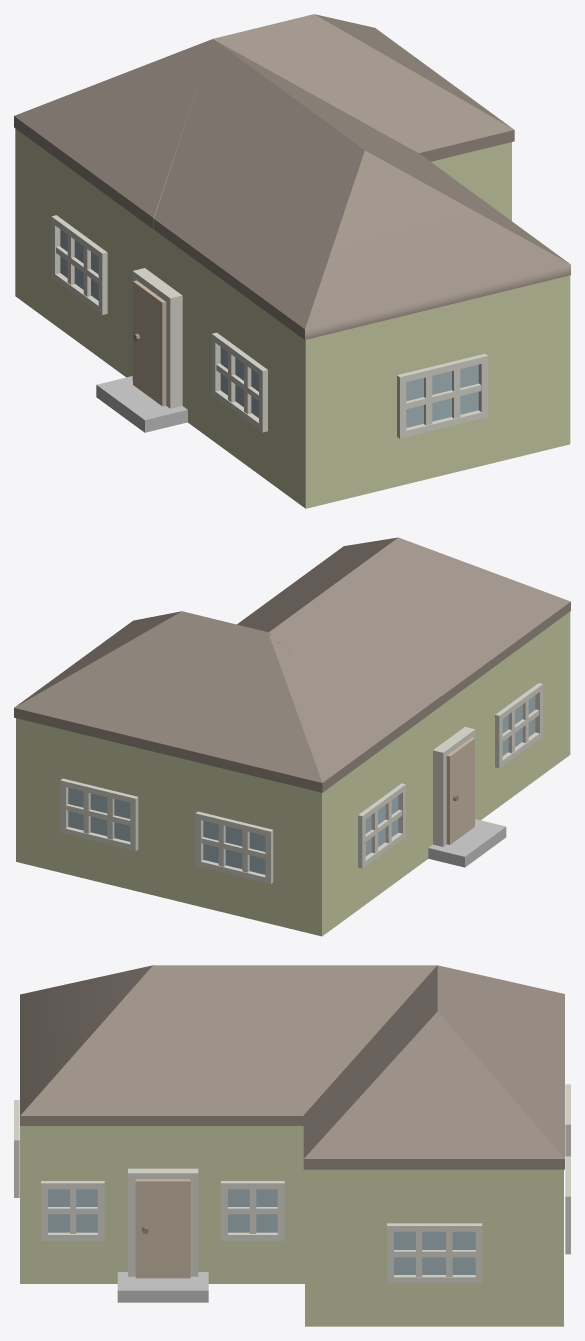
File: house03.fbx
3 views of the same model, one above another, from view 1: azimuth 30°, elevation 25°; view 2: azimuth 150°, elevation 25°; view 3: azimuth 270°, elevation 25° (orthographic). The views are drawn at different scales.
Parts seen in each view (by area): view 1: house03, roof05, roof06, door9 (×3), pPlane2 (×3), doorCentre, door17 (×3), doorFrame, step; view 2: house03, roof06, roof05, door9 (×4), pPlane2 (×4), door17 (×4), doorCentre, step, doorFrame; view 3: house03, roof05, roof06, doorCentre, door5 (×2), door9 (×3), pPlane1 (×2), pPlane2, doorFrame, step, door14 (×2), door17.
Boxes of the visible parts, x1,y1,x2,y2 form: house03: [15, 128, 570, 508]; roof05: [153, 39, 570, 339]; roof06: [14, 14, 514, 229]; door9 (×3): [51, 215, 488, 438]; pPlane2 (×3): [60, 229, 478, 427]; doorCentre: [133, 280, 166, 406]; door17 (×3): [56, 235, 481, 425]; doorFrame: [132, 268, 182, 408]; step: [96, 376, 187, 432]; house03: [16, 611, 570, 936]; roof06: [14, 611, 441, 792]; roof05: [237, 537, 570, 704]; door9 (×4): [60, 683, 542, 883]; pPlane2 (×4): [68, 695, 535, 874]; door17 (×4): [66, 700, 539, 872]; doorCentre: [446, 737, 474, 844]; step: [428, 819, 506, 867]; doorFrame: [433, 727, 475, 846]; house03: [20, 1126, 563, 1326]; roof05: [20, 965, 436, 1125]; roof06: [303, 965, 564, 1169]; doorCentre: [135, 1179, 190, 1278]; door5 (×2): [41, 1181, 284, 1240]; door9 (×3): [14, 1100, 570, 1283]; pPlane1 (×2): [48, 1189, 277, 1232]; pPlane2: [394, 1231, 475, 1274]; doorFrame: [128, 1168, 198, 1276]; step: [117, 1272, 208, 1302]; door14 (×2): [48, 1189, 277, 1233]; door17: [394, 1231, 475, 1276].
Bounding box in the file's own units: 5.36 × 3.44 × 6.75.
